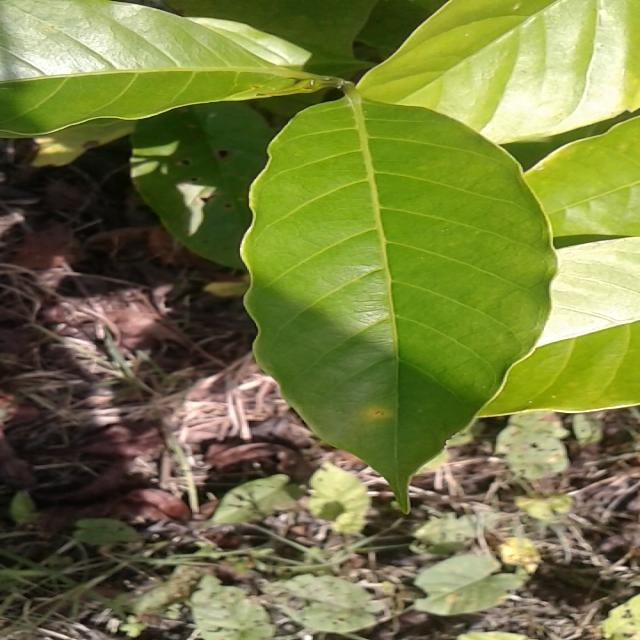Enfermedad-Roya: (239, 96, 557, 516)
